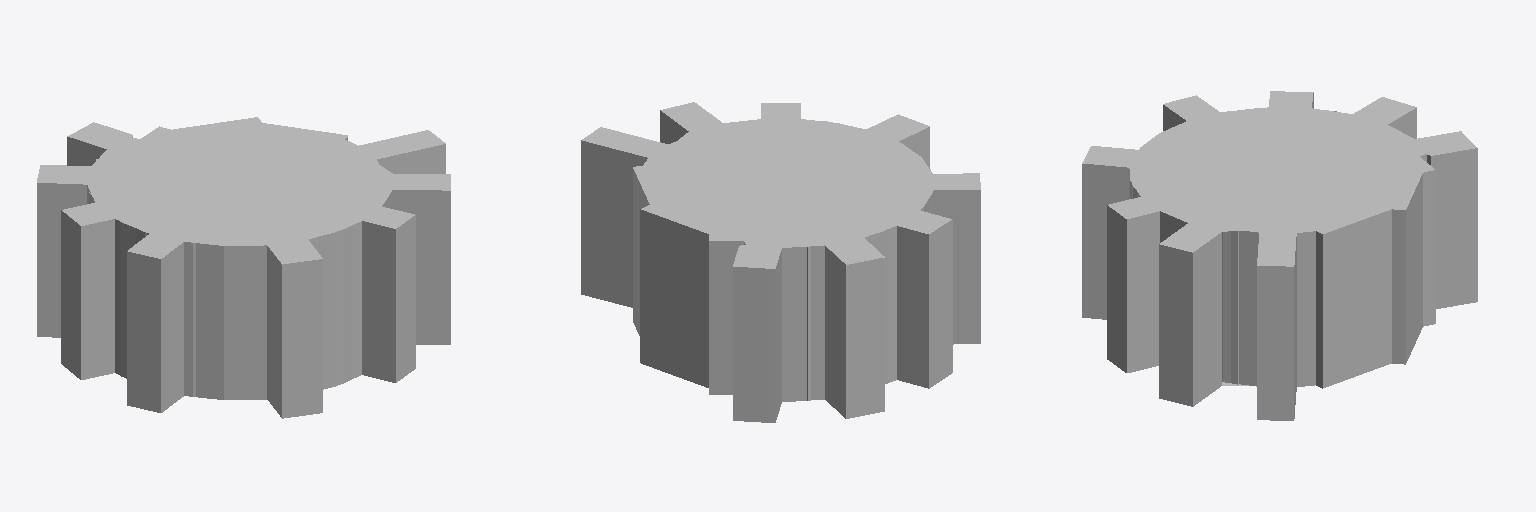
File: ressort_element_000078.obj
The picture shows the model from 3 angles: view 1: azimuth 30°, elevation 25°; view 2: azimuth 150°, elevation 25°; view 3: azimuth 270°, elevation 25°; orthographic projection.
Visible parts, largest first — view 1: resort_Cube.015; view 2: resort_Cube.015; view 3: resort_Cube.015.
Boxes of the visible parts, box(x1,y1,x2,y2) form: resort_Cube.015: box(37, 117, 450, 418); resort_Cube.015: box(581, 102, 980, 422); resort_Cube.015: box(1082, 91, 1477, 420).
Bounding box in the file's own units: 9375 × 3843 × 8922.